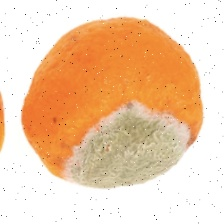orange: (30, 12, 192, 189)
